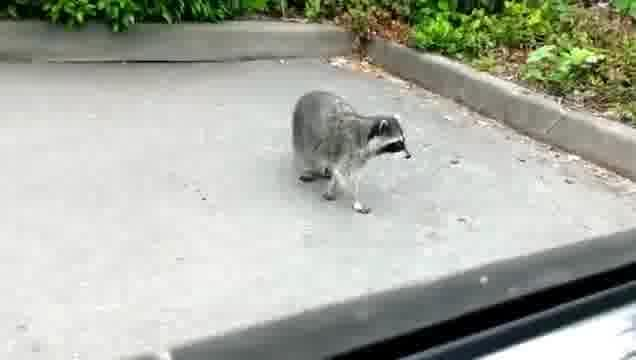raccoon: (292, 91, 412, 215)
